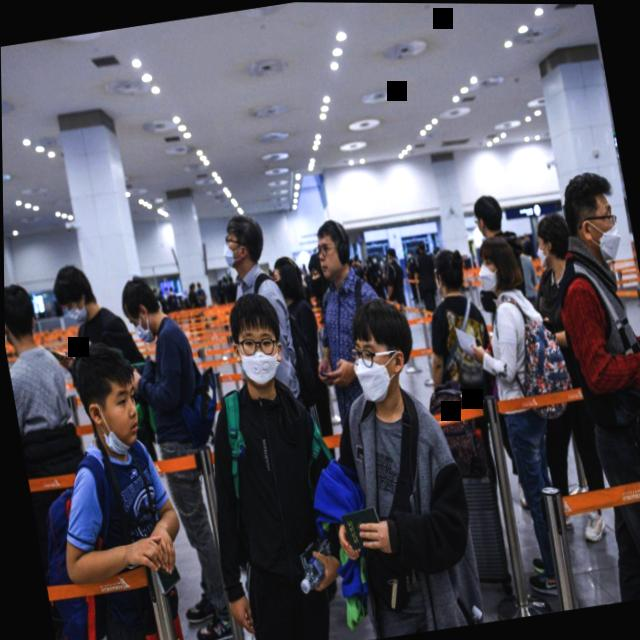Mask: (338, 290, 426, 411), (554, 163, 634, 274), (221, 288, 292, 394), (469, 229, 528, 309), (117, 263, 171, 348), (213, 206, 272, 281), (49, 253, 104, 332), (528, 206, 575, 276)
NO-Mask: (65, 338, 149, 461), (309, 213, 358, 289)
